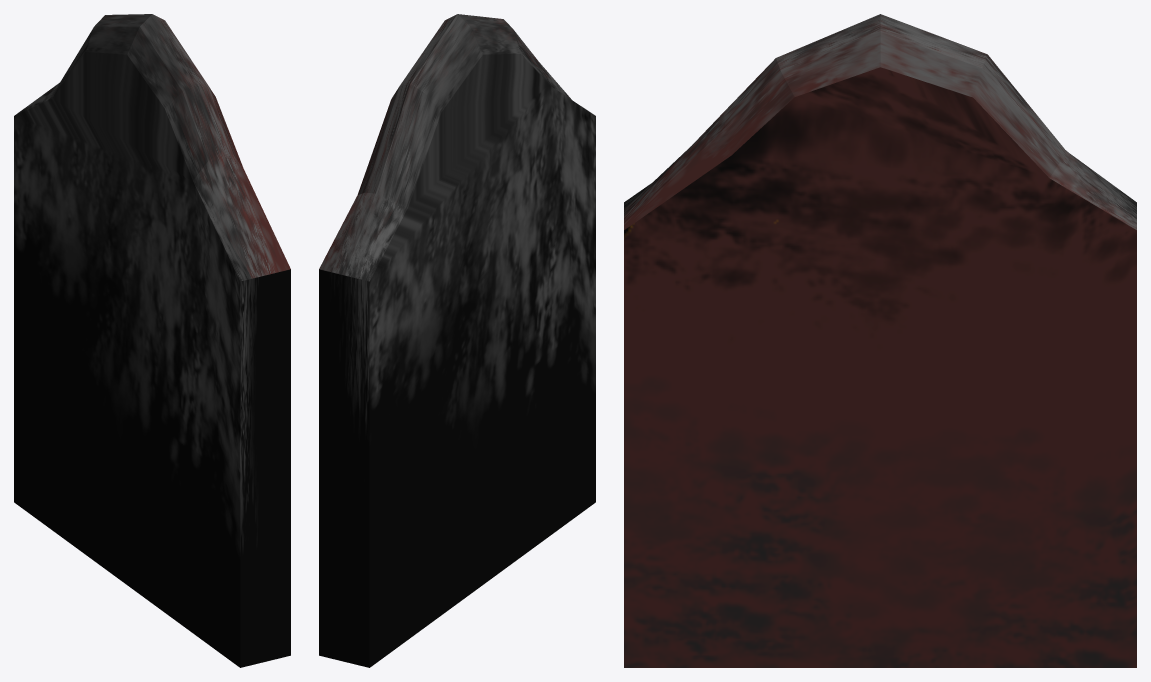
The model's file is door_inner.fbx.
3 renders of one model, left to right at view 1: azimuth 30°, elevation 25°; view 2: azimuth 150°, elevation 25°; view 3: azimuth 270°, elevation 25°, orthographic. The views are drawn at different scales.
Parts seen in each view (by area): view 1: Cube.007; view 2: Cube.007; view 3: Cube.007.
Boxes of the visible parts, x1,y1,x2,y2 form: Cube.007: (14,14,290,667); Cube.007: (319,14,595,667); Cube.007: (624,14,1136,667).
Bounding box in the file's own units: 20.76 × 221 × 161.
Materials: 1 (1 with a texture image).
